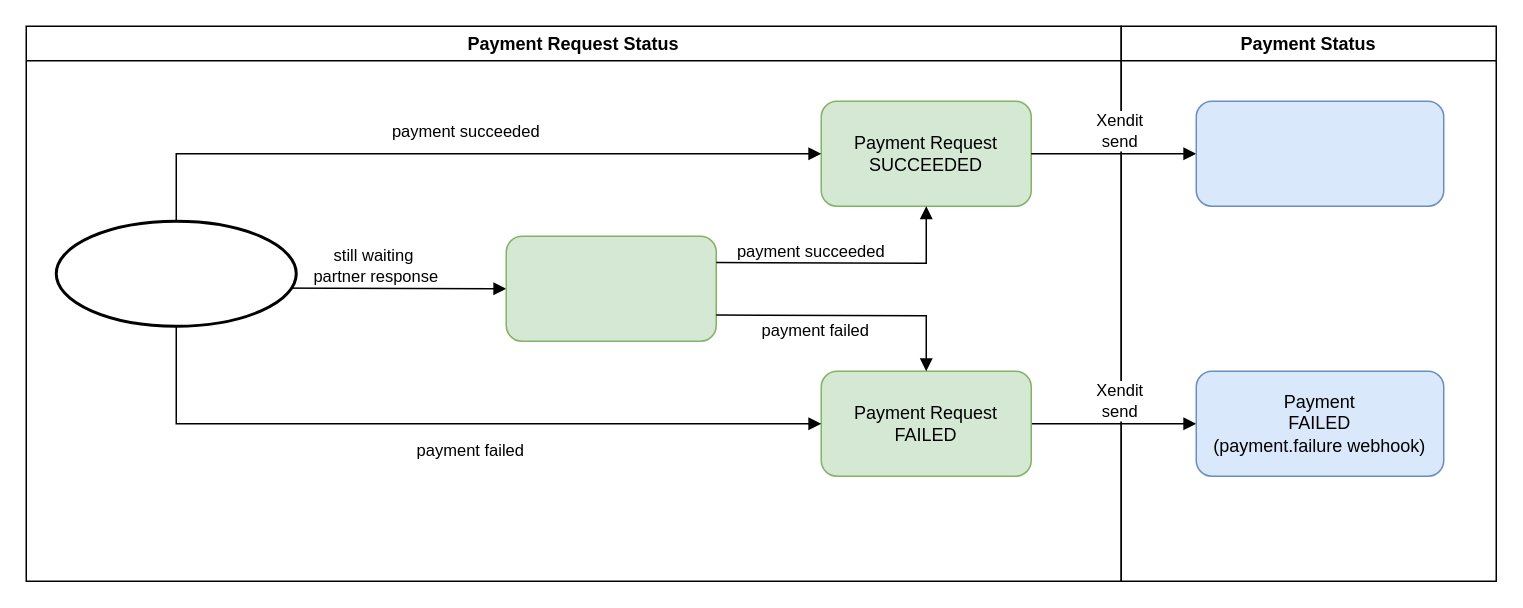
Image size: 1523x608. Some labels were removed from this diagram. Here are the shapes that lost their labels. From the top down, the centre of each, then its label:
[1319,153]: Payment SUCCEEDED (payment.capture webhook)
[175,273]: Create Payment Request with Payment Token
[610,288]: Payment Request PENDING
